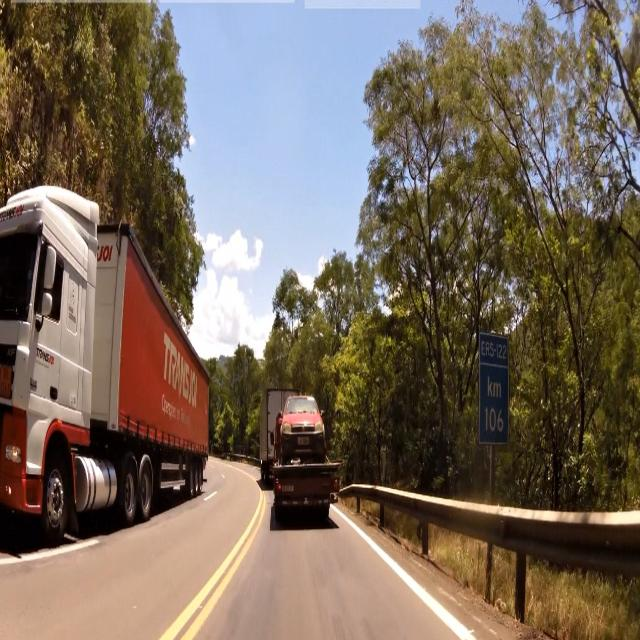RQ: (478, 333, 512, 449)
